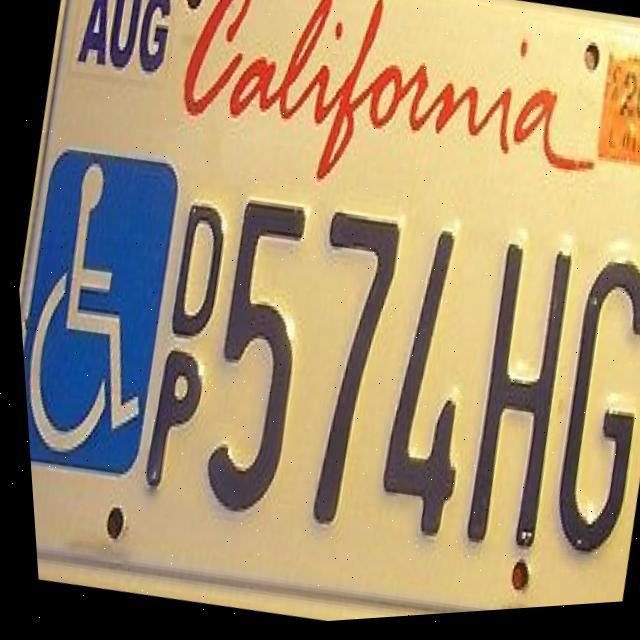symbol_of_access: (8, 135, 198, 479)
